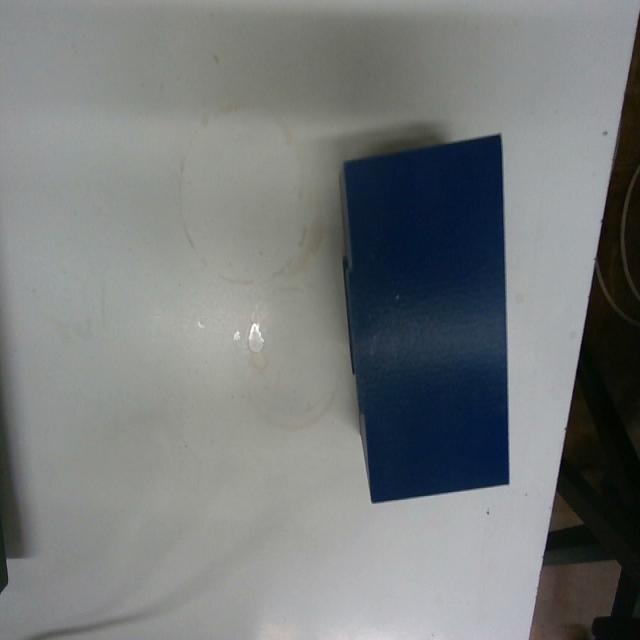Blue Cuboid: (336, 129, 511, 504)
